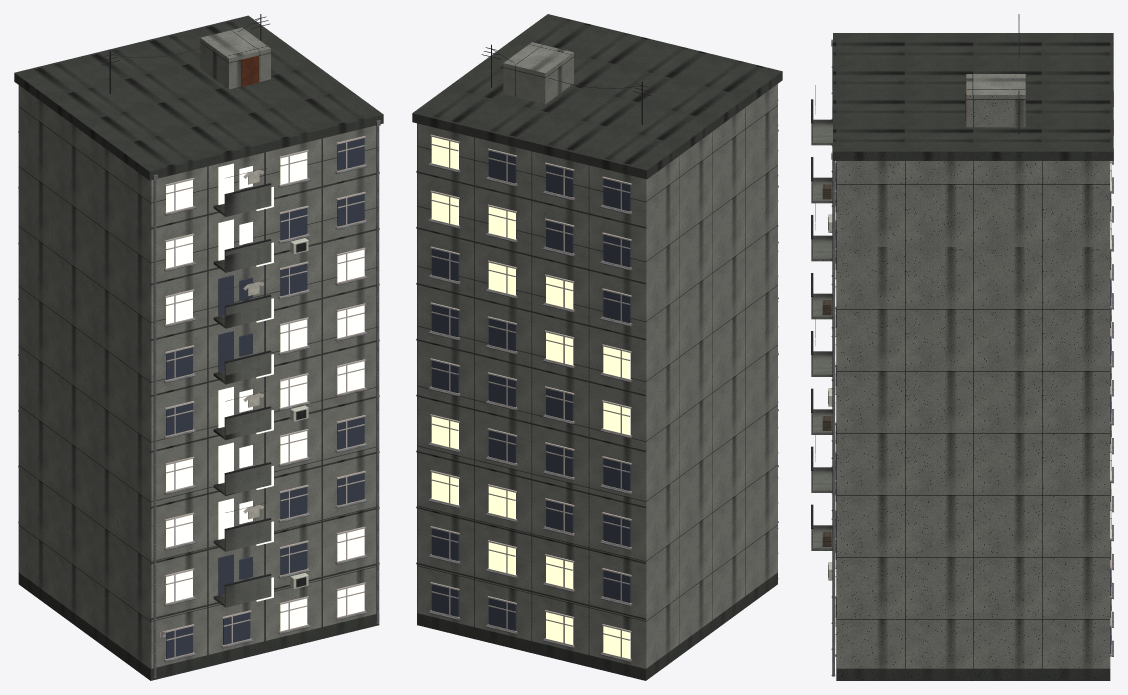
The model's file is panel_building_section.glb.
3 renders of one model, left to right at view 1: azimuth 30°, elevation 25°; view 2: azimuth 150°, elevation 25°; view 3: azimuth 270°, elevation 25°, orthographic. The views are drawn at different scales.
Parts seen in each view (by area): view 1: panel_building_section; view 2: panel_building_section; view 3: panel_building_section.
Part boxes in pixels (<box>): panel_building_section: <box>14,14,383,680</box>; panel_building_section: <box>412,14,782,680</box>; panel_building_section: <box>811,14,1113,680</box>.
Size of what is drawn, in the model's own units: 12.3 by 27.8 by 13.27.
Materials: 16 (13 with a texture image).
